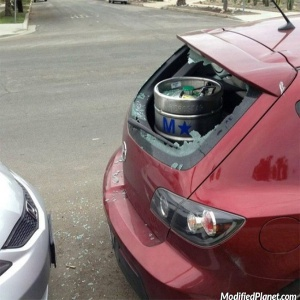rear_windshield_glass: (131, 46, 233, 156)
